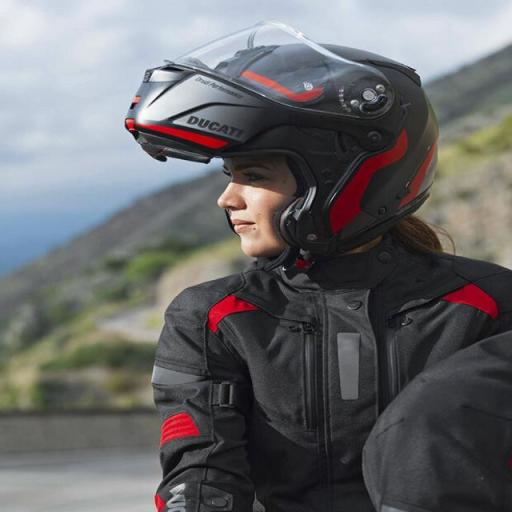Helmet: (133, 30, 474, 294)
